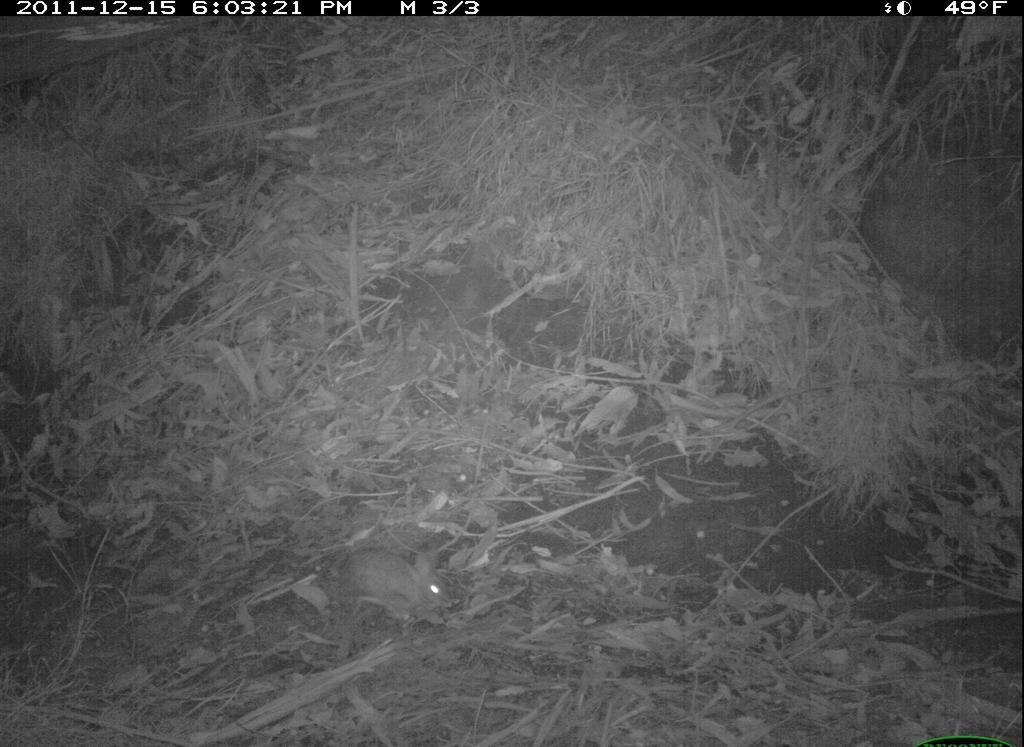rabbit: (318, 534, 459, 655)
